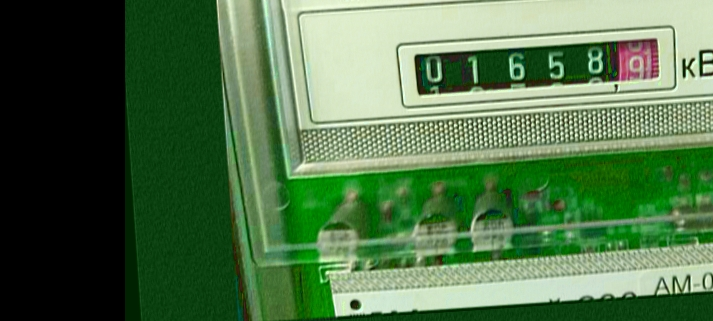0: (422, 52, 445, 85)
1: (466, 53, 481, 85)
5: (546, 48, 567, 81)
6: (506, 50, 528, 82)
8: (585, 44, 606, 77)
9: (626, 53, 645, 80)
screen: (388, 15, 683, 114)
